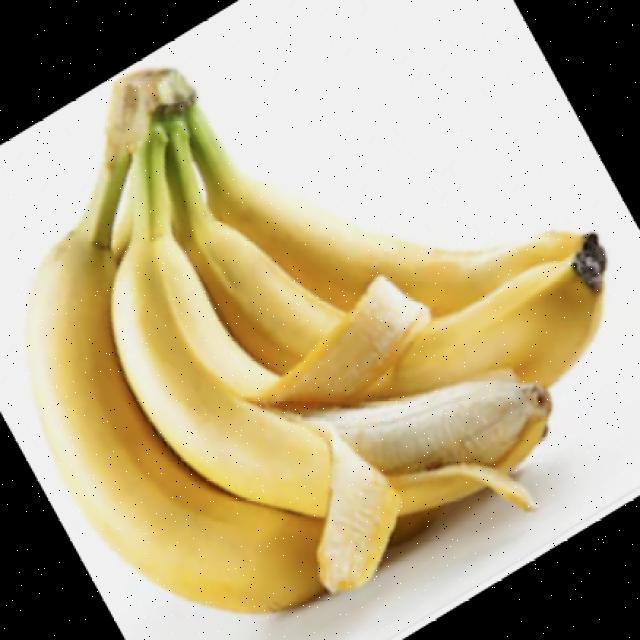god quality banana: (28, 71, 608, 613)
